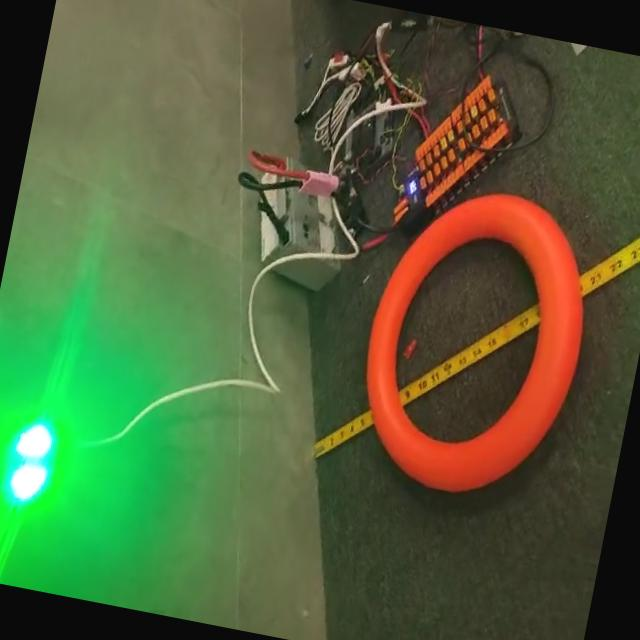note: (342, 174, 614, 514)
